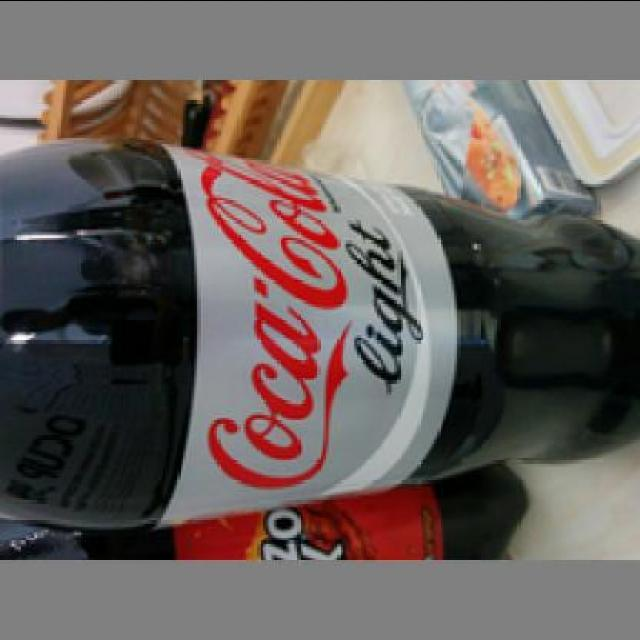Coke: (1, 137, 637, 537)
